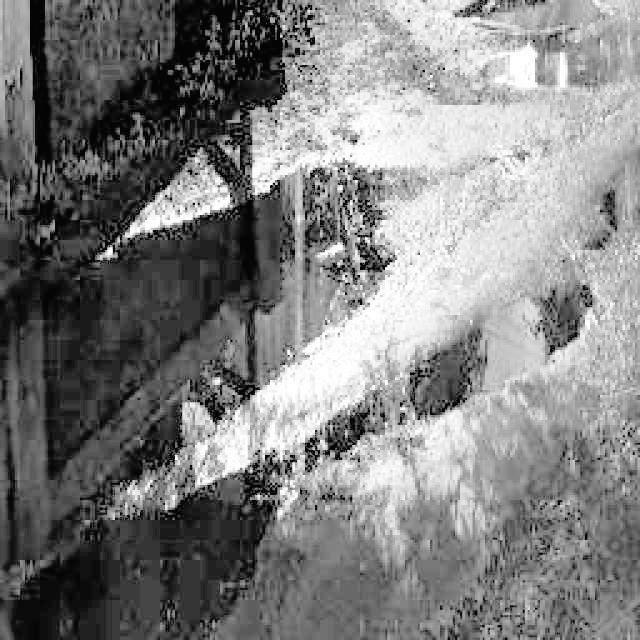Pothole: (3, 261, 604, 640), (0, 150, 458, 570), (437, 0, 640, 95)
